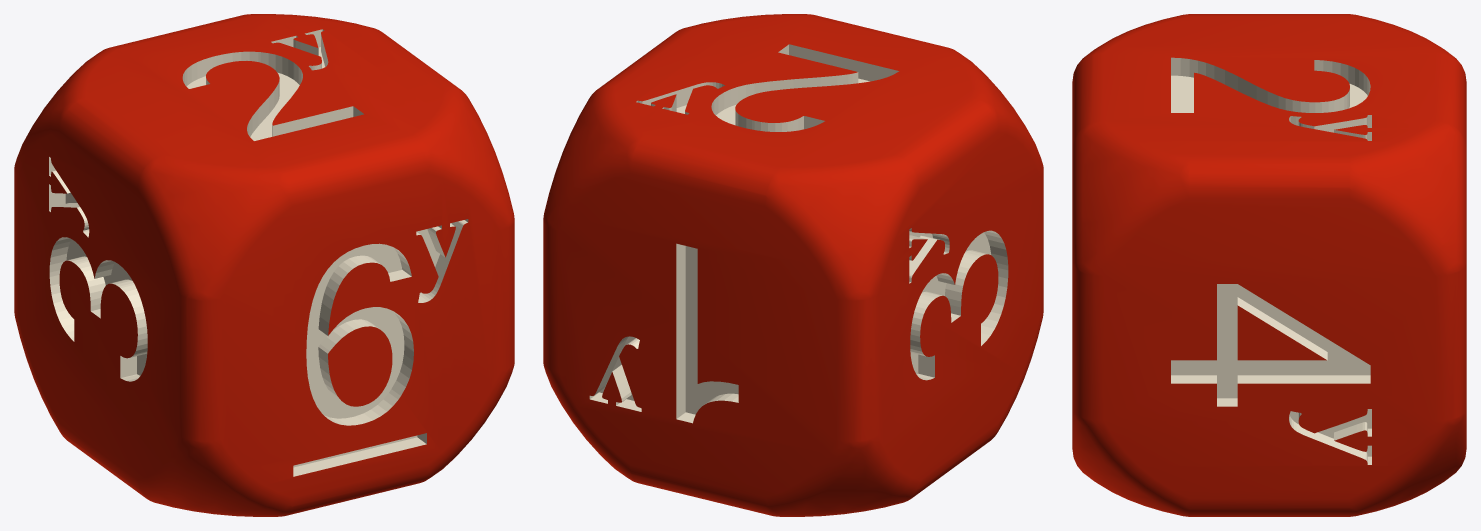
File: Die Y Dimension Red.glb
The picture shows the model from 3 angles, left to right: view 1: azimuth 30°, elevation 25°; view 2: azimuth 150°, elevation 25°; view 3: azimuth 270°, elevation 25°; orthographic projection. The views are drawn at different scales.
Parts seen in each view (by area): view 1: Die_Body; view 2: Die_Body; view 3: Die_Body.
Boxes of the visible parts, x1,y1,x2,y2 form: Die_Body: (14, 14, 514, 516); Die_Body: (543, 14, 1043, 516); Die_Body: (1072, 14, 1466, 516).
Size of the model in its own units: 1 by 1 by 1.
